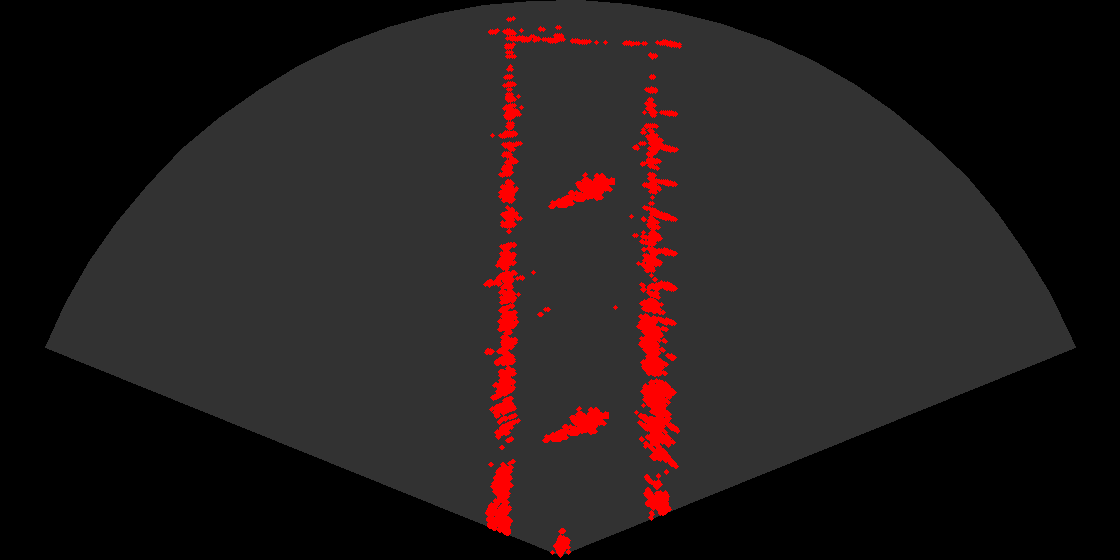frogman: (541, 400, 609, 447), (547, 166, 615, 213)
